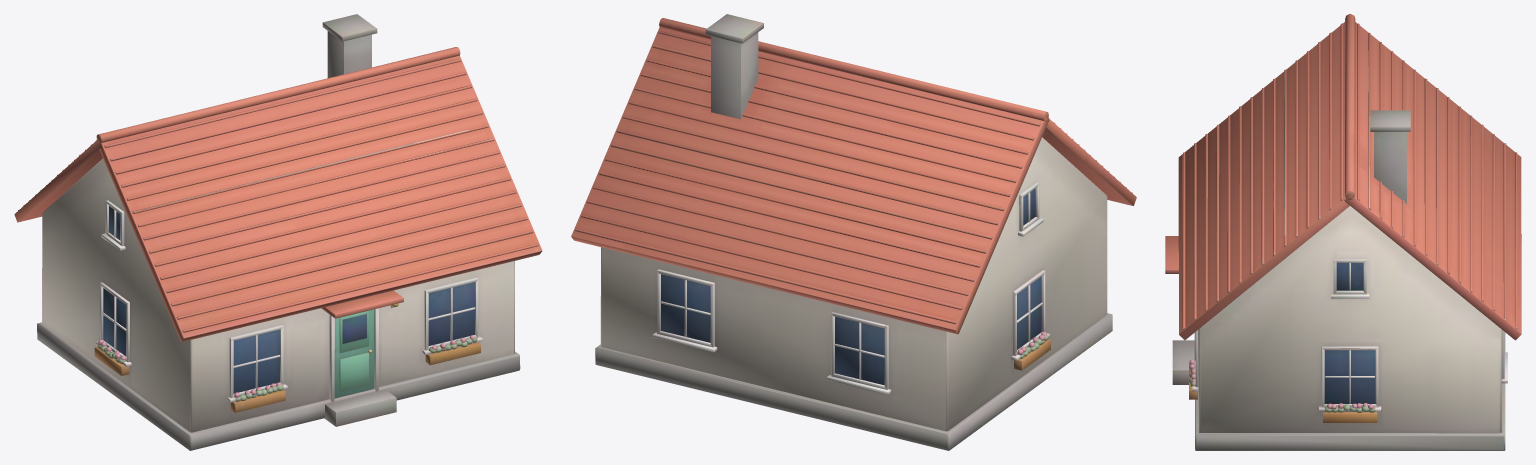
File: cottage-house.glb
3 views of the same model, side by side, from view 1: azimuth 30°, elevation 25°; view 2: azimuth 150°, elevation 25°; view 3: azimuth 270°, elevation 25° (orthographic). The views are drawn at different scales.
Parts seen in each view (by area): view 1: cottage-house_body; view 2: cottage-house_body; view 3: cottage-house_body.
Boxes of the visible parts, x1=… form: cottage-house_body: x1=14, y1=14, x2=542, y2=450; cottage-house_body: x1=571, y1=14, x2=1136, y2=450; cottage-house_body: x1=1165, y1=14, x2=1521, y2=450.
Bounding box in the file's own units: 8.83 × 6.9 × 7.51.
Materials: 1 (1 with a texture image).
